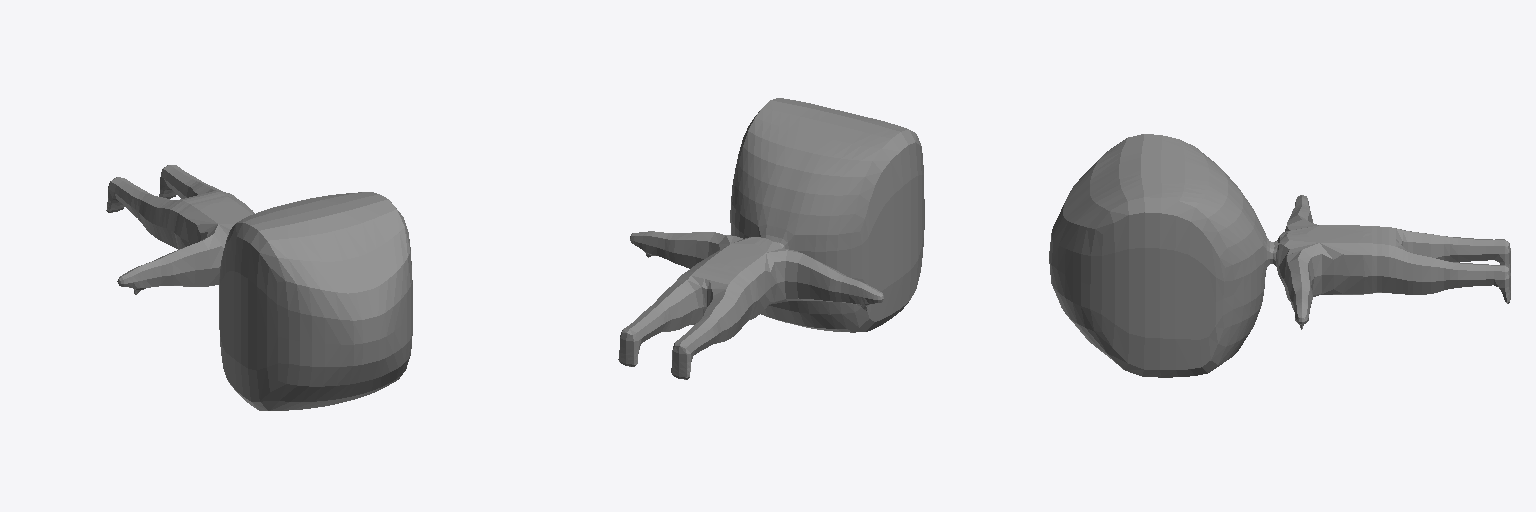
The model's file is Viking.obj.
3 renders of one model, left to right at view 1: azimuth 30°, elevation 25°; view 2: azimuth 150°, elevation 25°; view 3: azimuth 270°, elevation 25°, orthographic.
Parts seen in each view (by area): view 1: Ninja; view 2: Ninja; view 3: Ninja.
Boxes of the visible parts, x1,y1,x2,y2 form: Ninja: [106, 165, 412, 410]; Ninja: [618, 98, 924, 379]; Ninja: [1049, 134, 1510, 377].
Bounding box in the file's own units: 52.29 × 35.69 × 82.54.